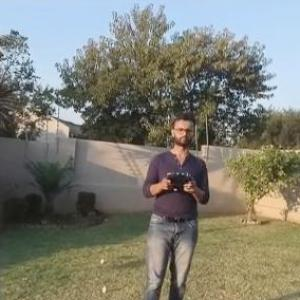follow: (131, 108, 212, 299)
